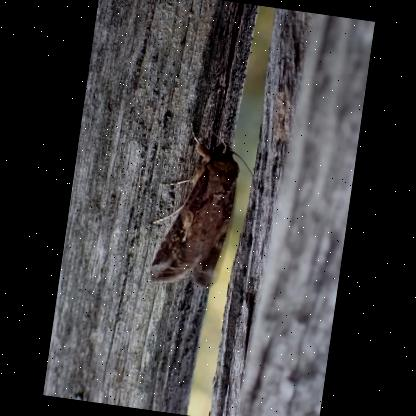Fall Armyworm Moth: (142, 118, 260, 296)
